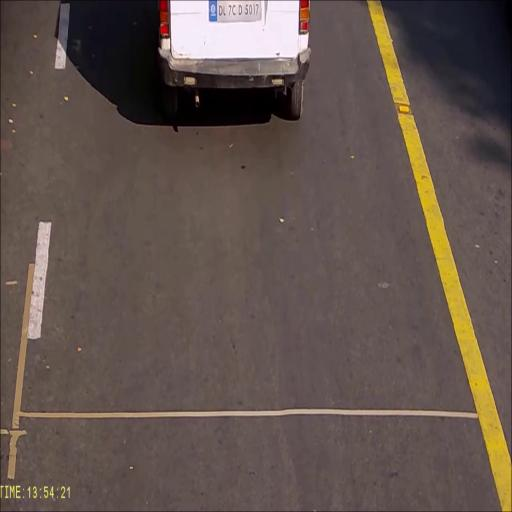License plate: (208, 0, 261, 22)
Vehicle: (158, 0, 311, 121)
